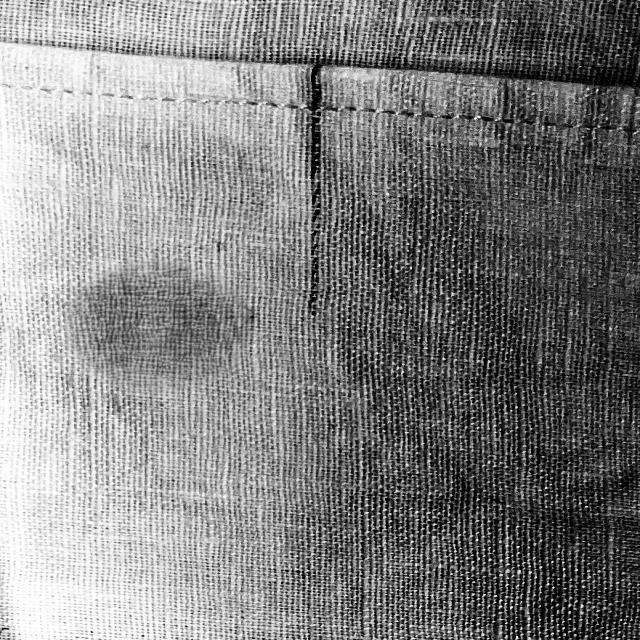Foreign_yarn: (279, 60, 342, 322)
